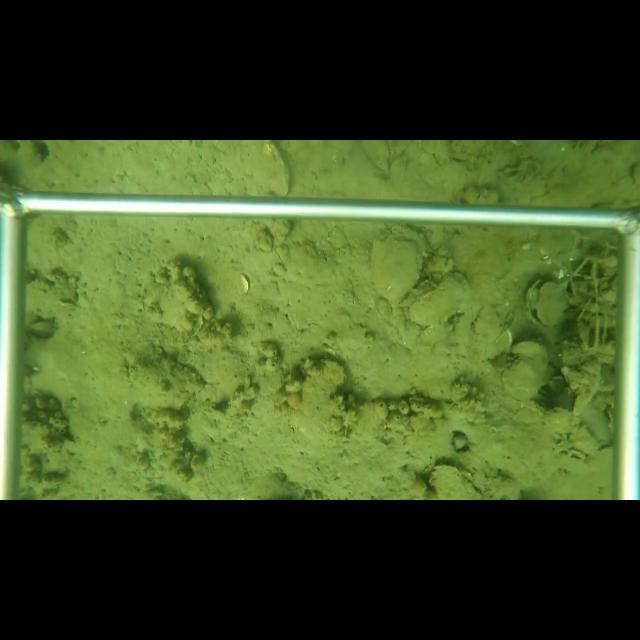Oyster-Closed: (370, 223, 437, 317), (290, 356, 351, 452), (407, 269, 484, 327), (498, 340, 557, 406), (428, 462, 490, 499), (261, 141, 293, 196)
Oyster-Open: (521, 277, 569, 331)
